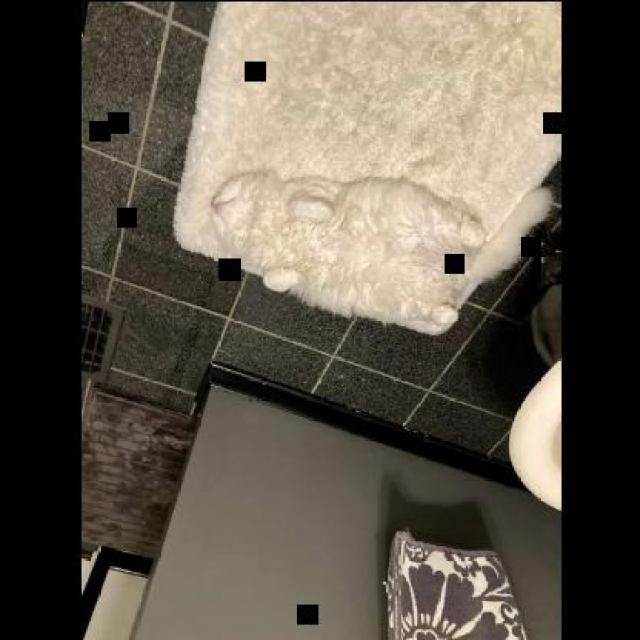unauthorized: (170, 0, 562, 337), (206, 157, 559, 335)
